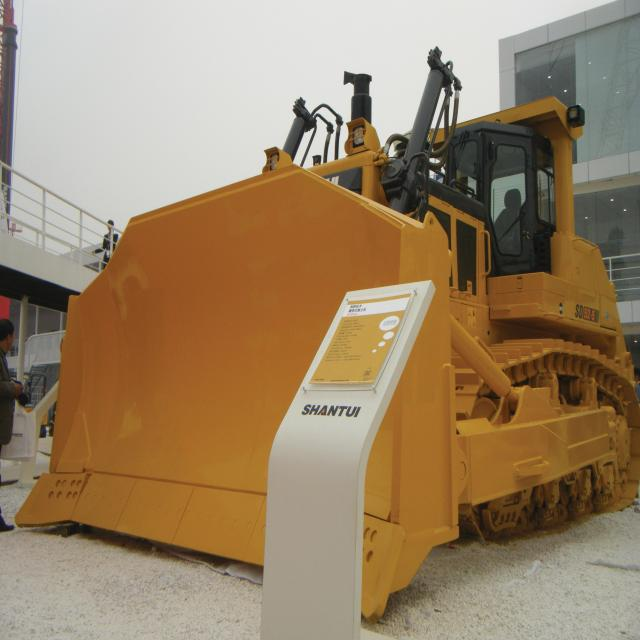Bulldozer: (25, 29, 640, 609)
